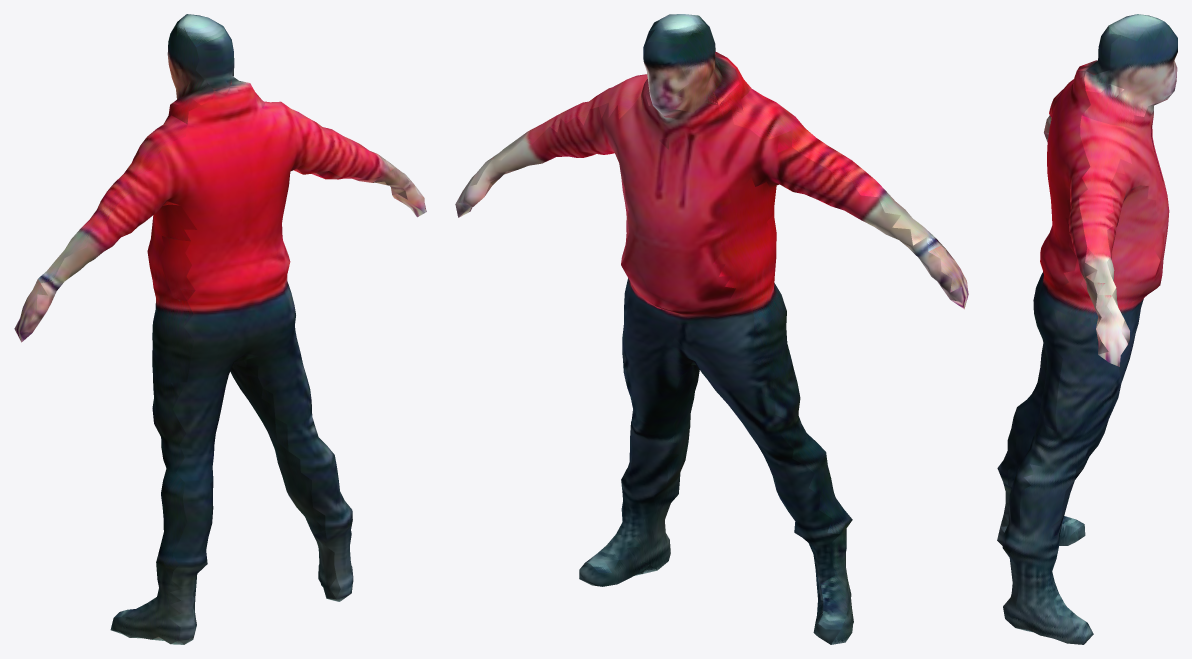
3 renders of one model, left to right at view 1: azimuth 30°, elevation 25°; view 2: azimuth 150°, elevation 25°; view 3: azimuth 270°, elevation 25°, orthographic. The views are drawn at different scales.
Parts seen in each view (by area): view 1: world; view 2: world; view 3: world.
Boxes of the visible parts, x1,y1,x2,y2 form: world: (14, 14, 426, 644); world: (455, 14, 968, 644); world: (997, 14, 1177, 644).
Size of the model in its own units: 0.8053 by 0.9974 by 0.2851.
1 material, 1 textured.
